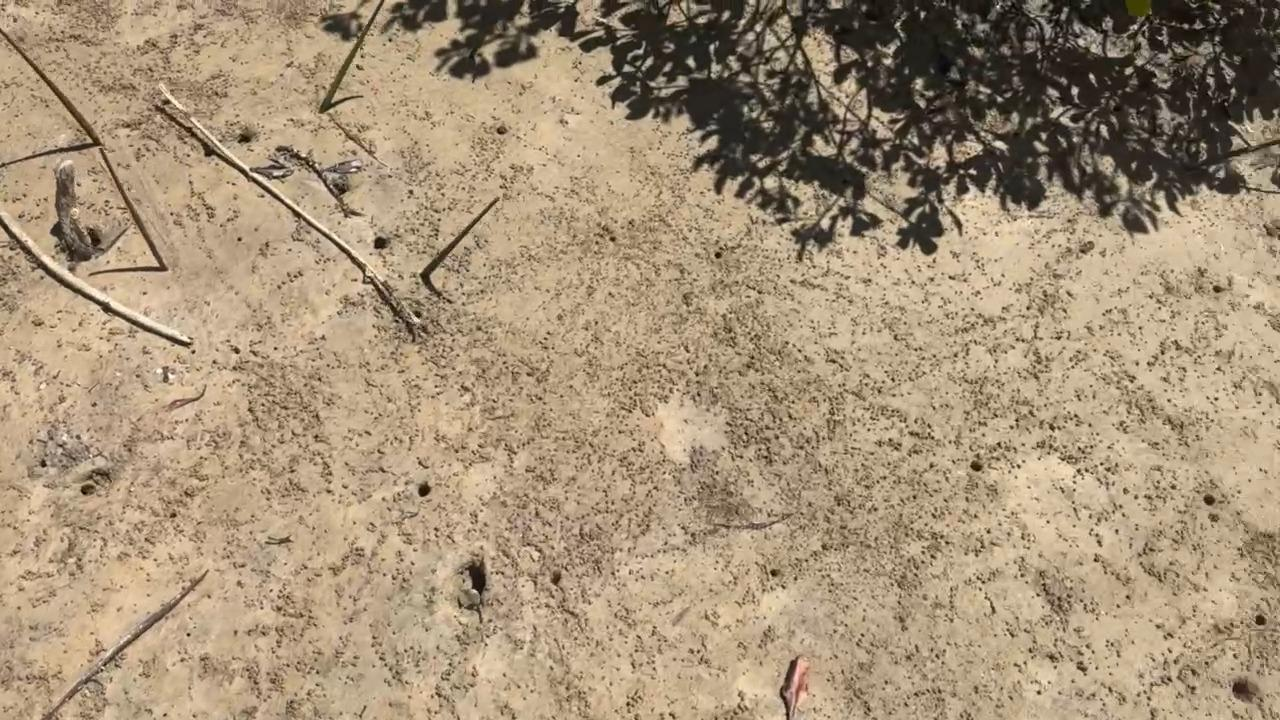Tree: (0, 28, 104, 146), (98, 147, 169, 271), (319, 0, 384, 113), (420, 197, 500, 278)
